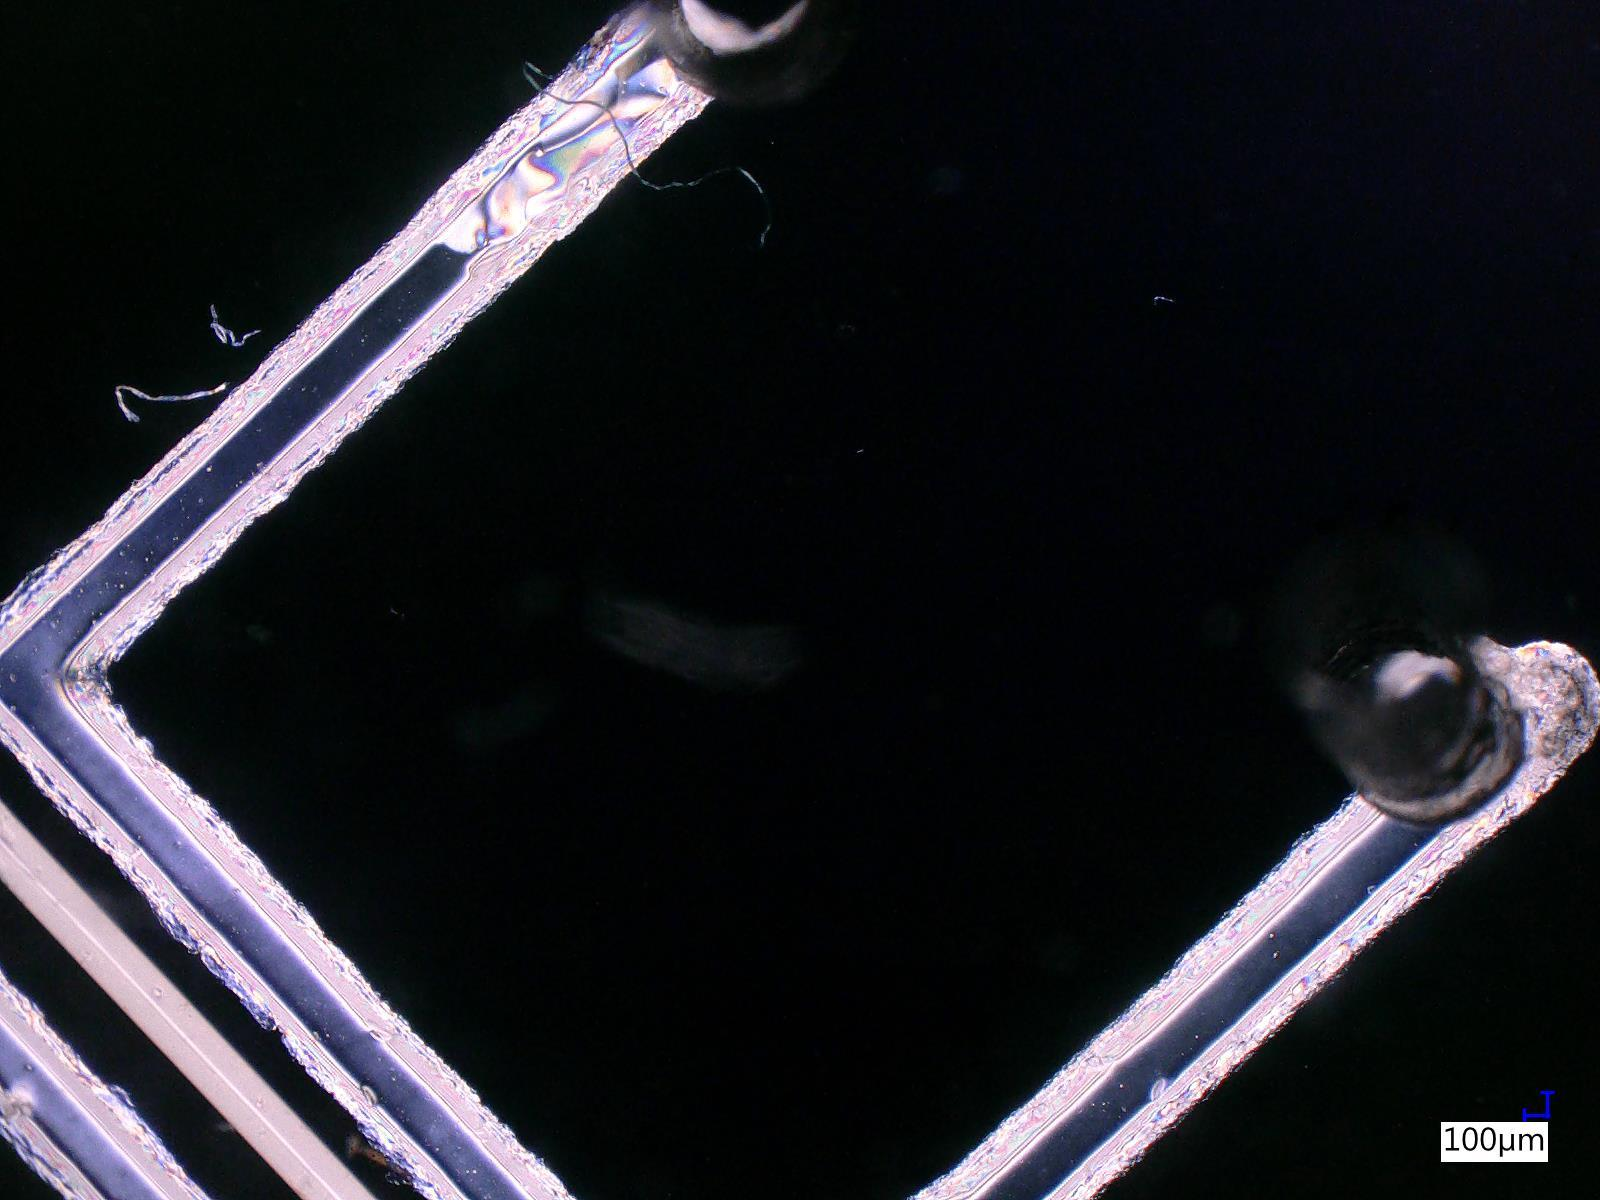sediment: (1537, 658, 1587, 758)
